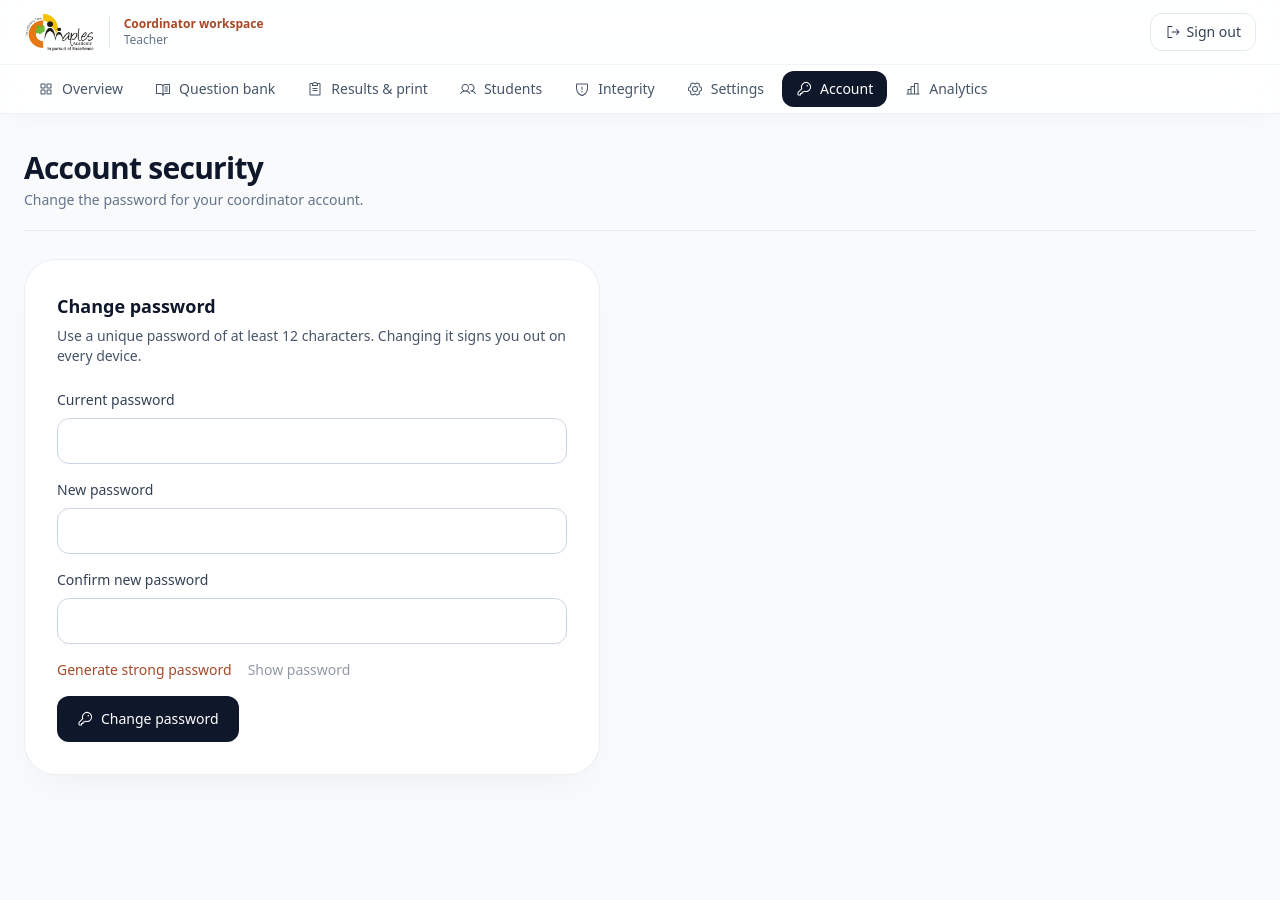
Test case: admin account page validates confirmation and shows the signed-out state
Expected: the heading "Change password" is shown, [57, 294, 216, 318]
Type "old-password-for-test" into the password field labelled "Current password" at [312, 441], box [57, 418, 567, 464]
Type "new-password-for-test" into the password field labelled "New password" at [312, 531], box [57, 508, 567, 554]
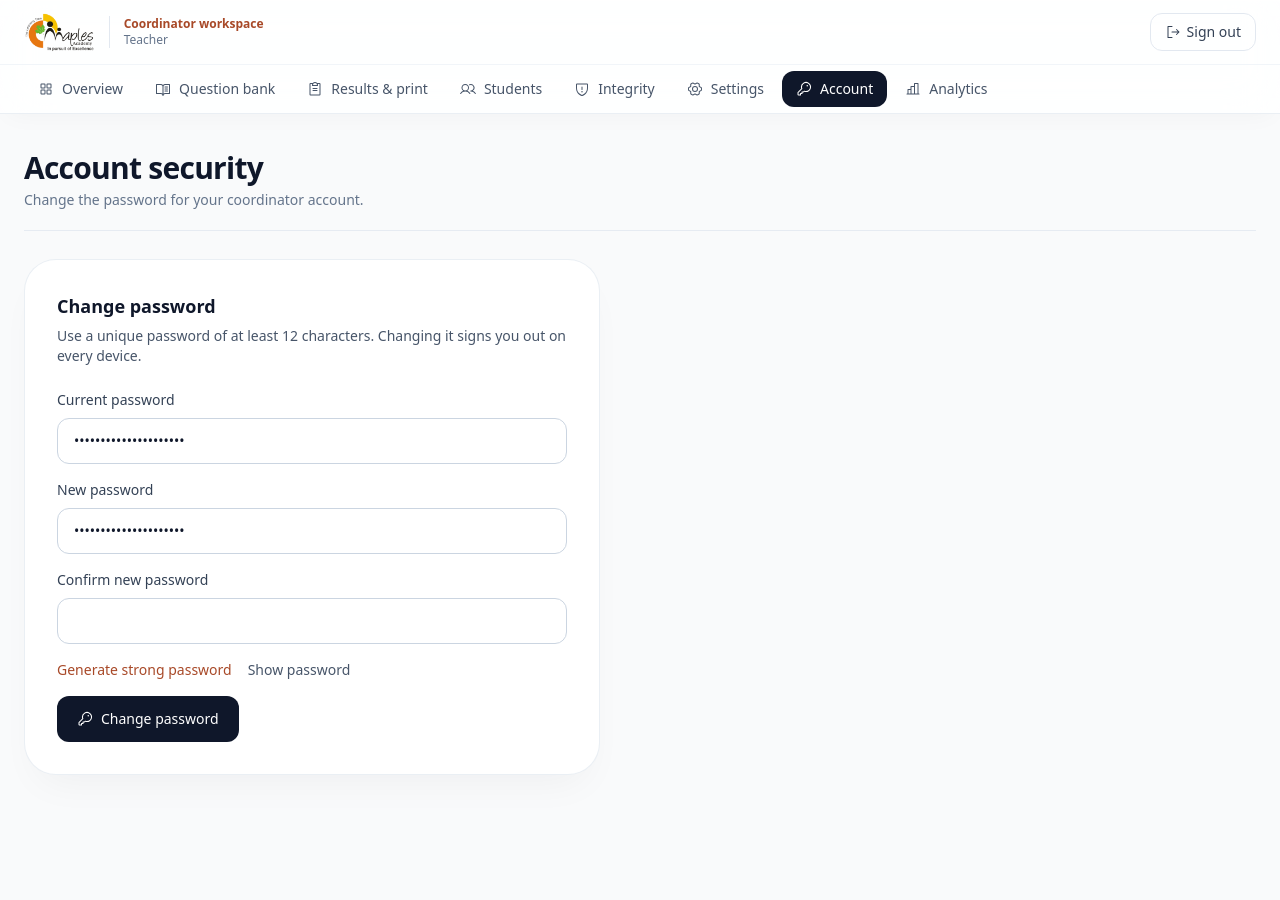
Type "not-the-same-password" into the password field labelled "Confirm new password" at [312, 621], box [57, 598, 567, 644]
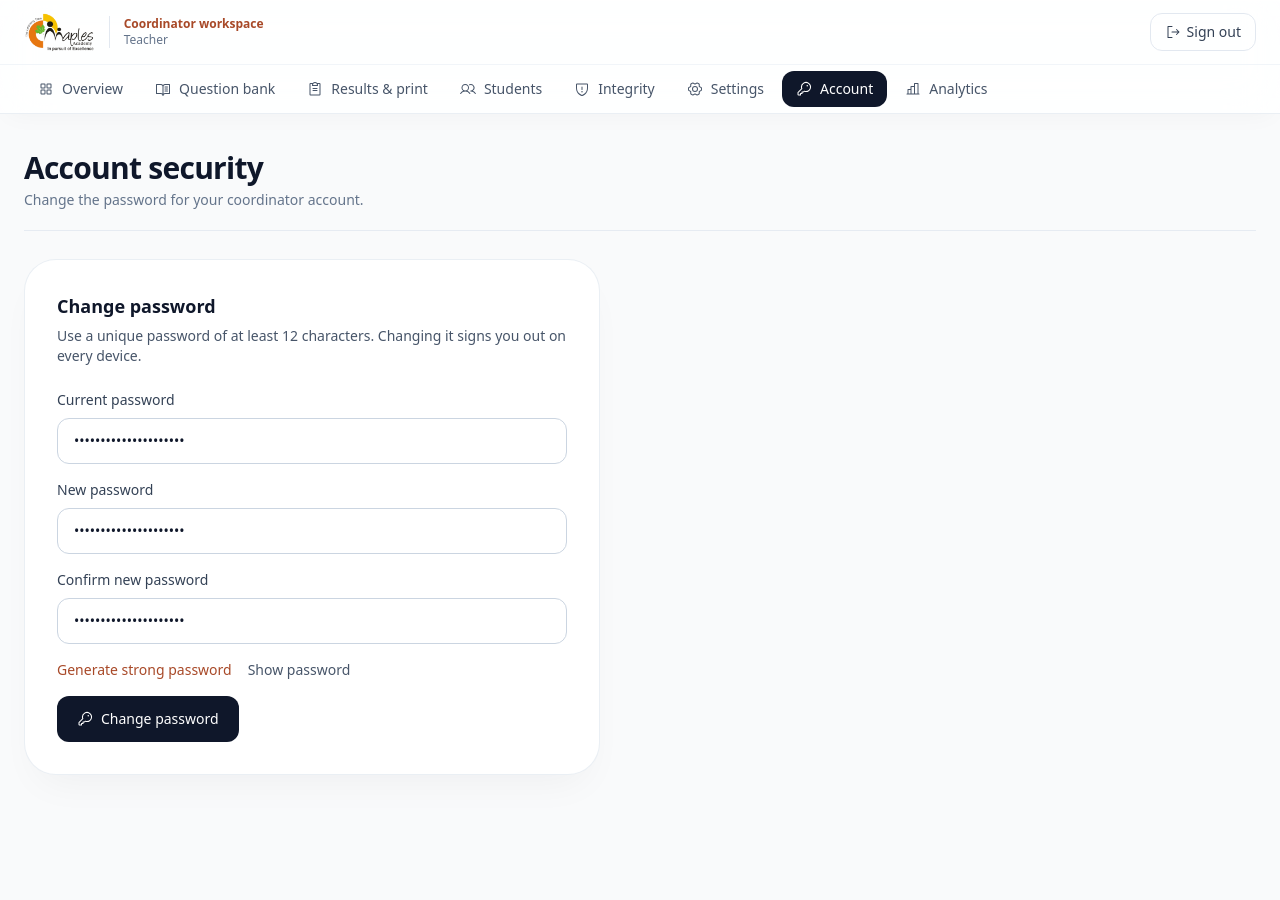
Click the button "Change password" at [148, 719], box [57, 696, 239, 742]
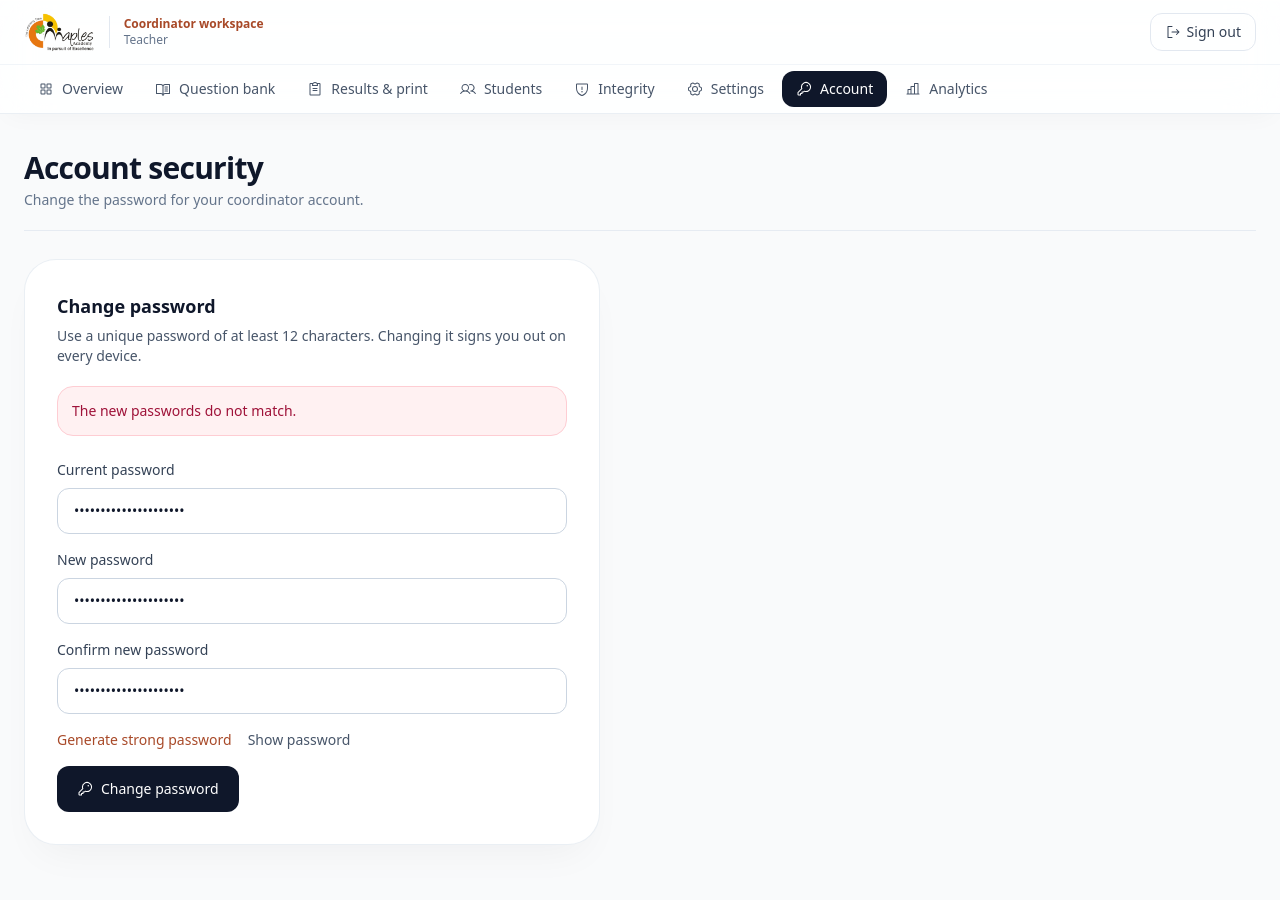
Expected: the message shows "do not match", [72, 401, 296, 420]
Click the button "Generate strong password" at [144, 740], box [57, 730, 232, 750]
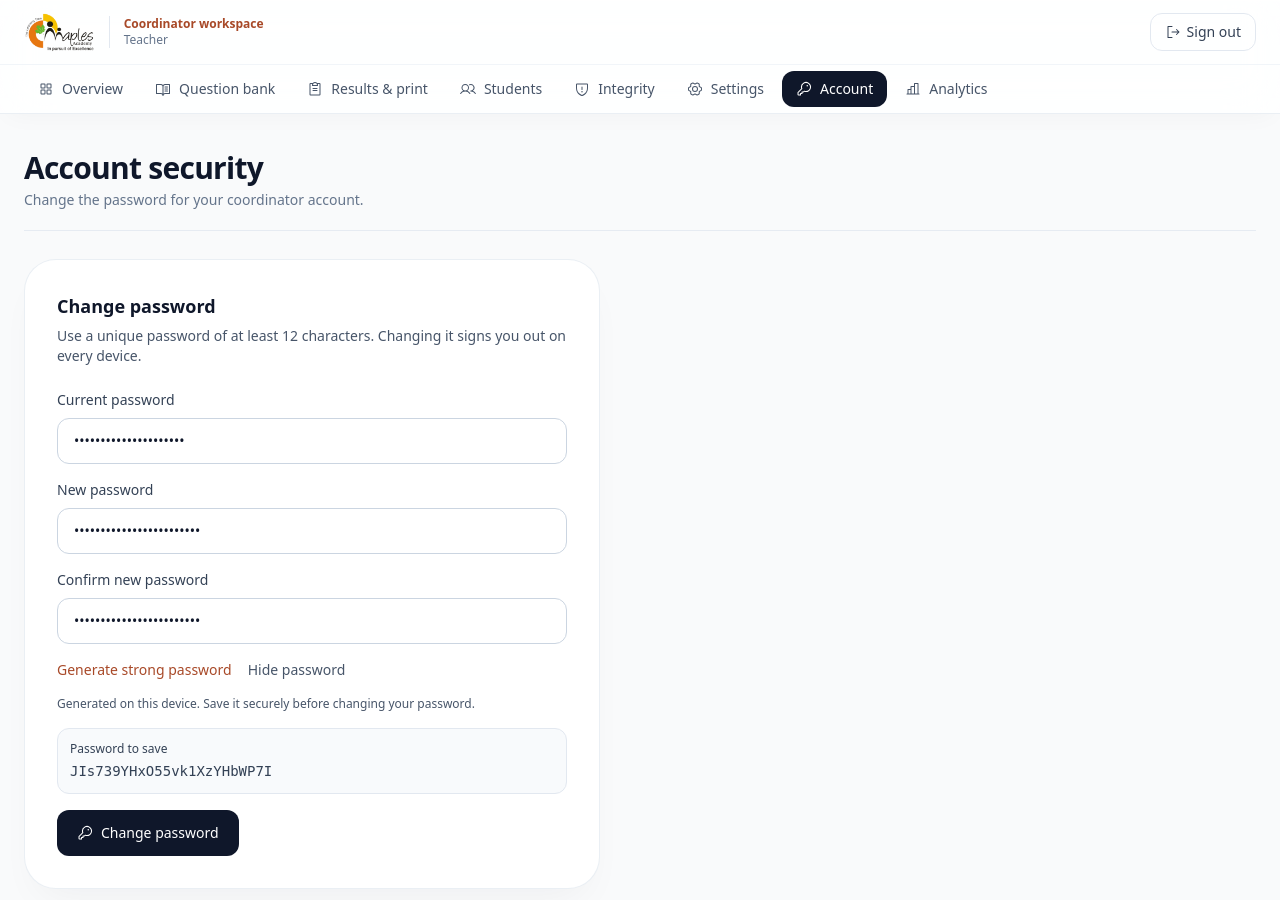
Expected: the message shows "Save it securely", [57, 695, 475, 712]
Click the button "Hide password" at [296, 670], box [248, 660, 345, 680]
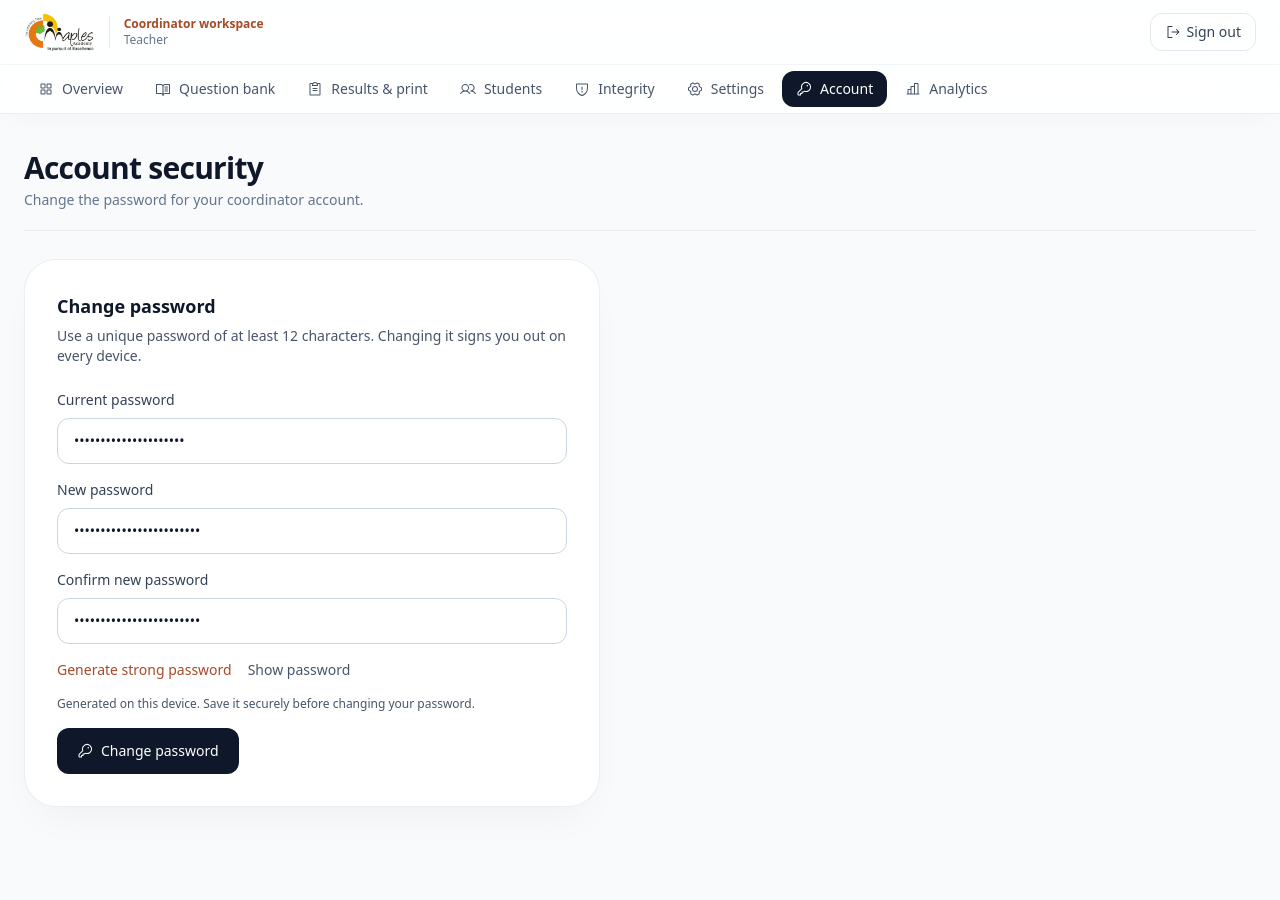
Click the button "Change password" at [148, 751], box [57, 728, 239, 774]
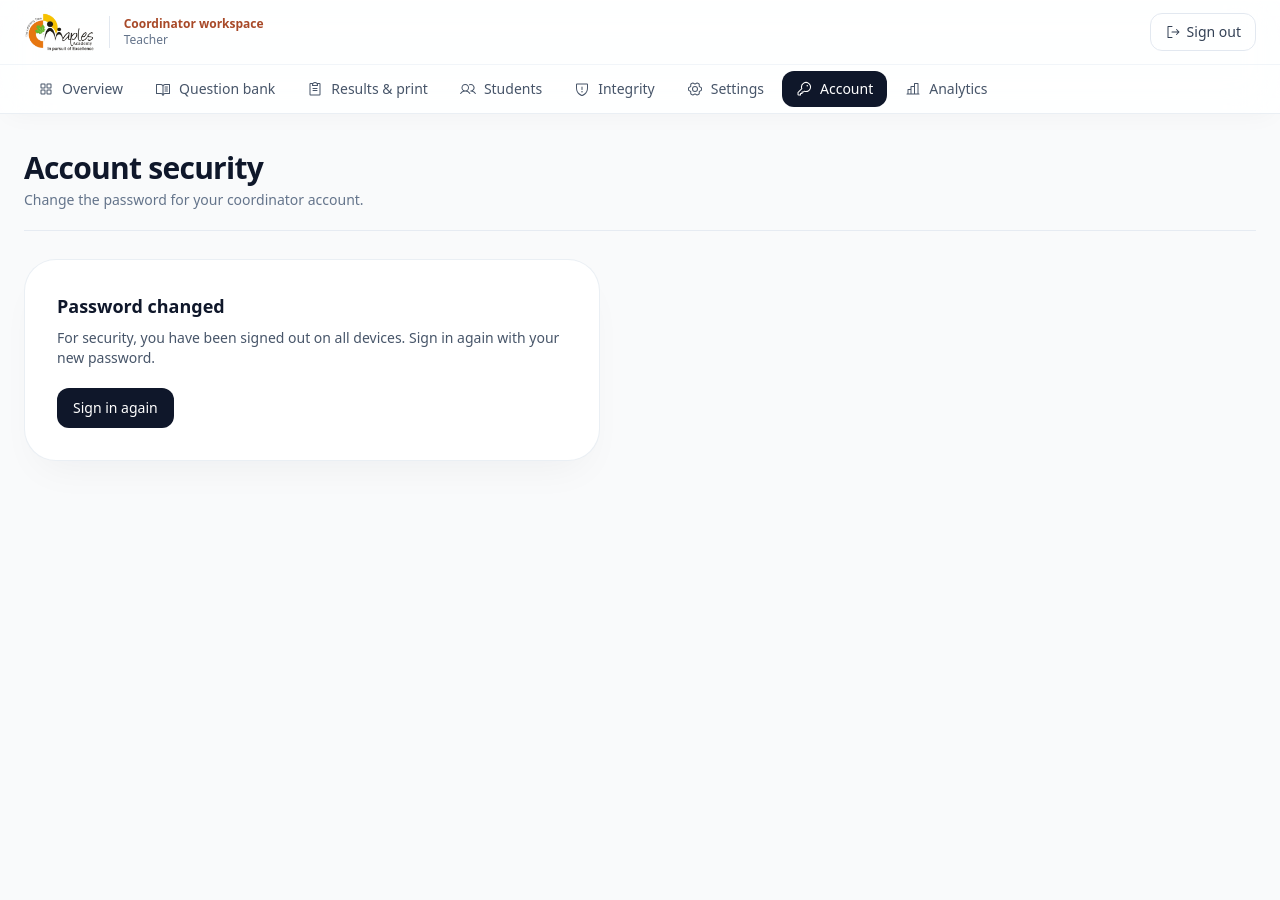
Expected: the link "Sign in again" is shown, [57, 388, 174, 428]
